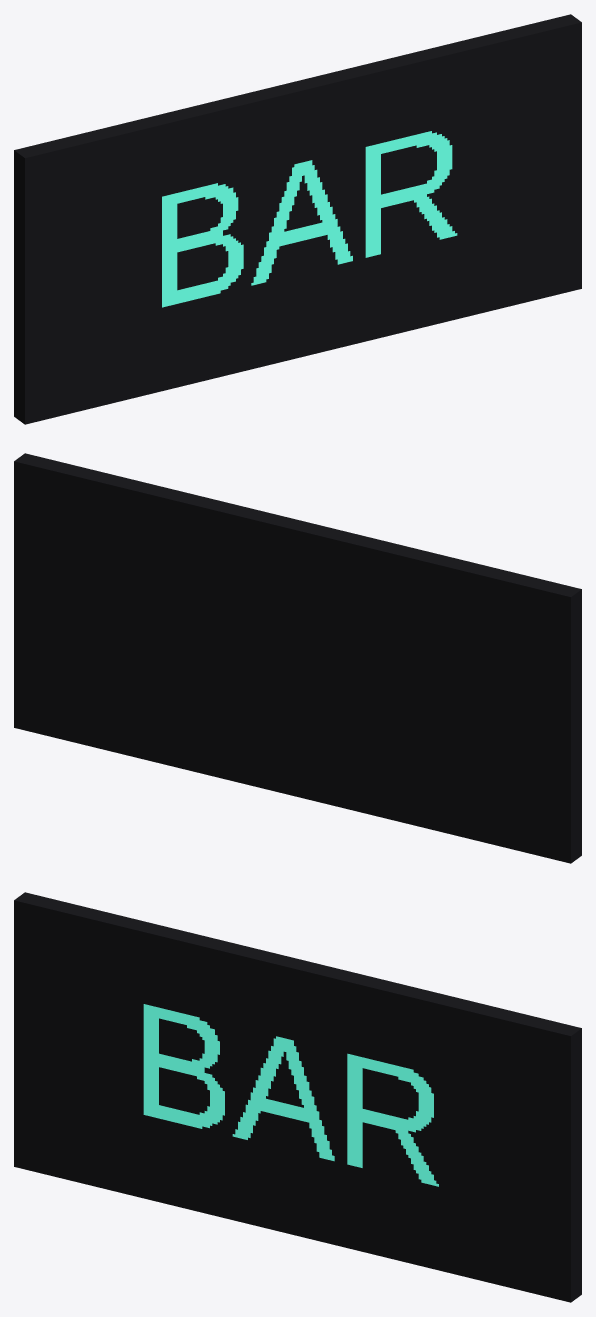
The model's file is Neon_3.glb.
The picture shows the model from 3 angles, top to bottom: view 1: azimuth 30°, elevation 25°; view 2: azimuth 150°, elevation 25°; view 3: azimuth 330°, elevation 25°; orthographic projection.
Visible parts, largest first — view 1: Neon_3; view 2: Neon_3; view 3: Neon_3.
Boxes of the visible parts, x1,y1,x2,y2 form: Neon_3: (14, 14, 581, 424); Neon_3: (14, 453, 581, 863); Neon_3: (14, 892, 581, 1302).
Size of the model in its own units: 3.5 by 1.6 by 0.16.
Materials: 2 (1 with a texture image).
